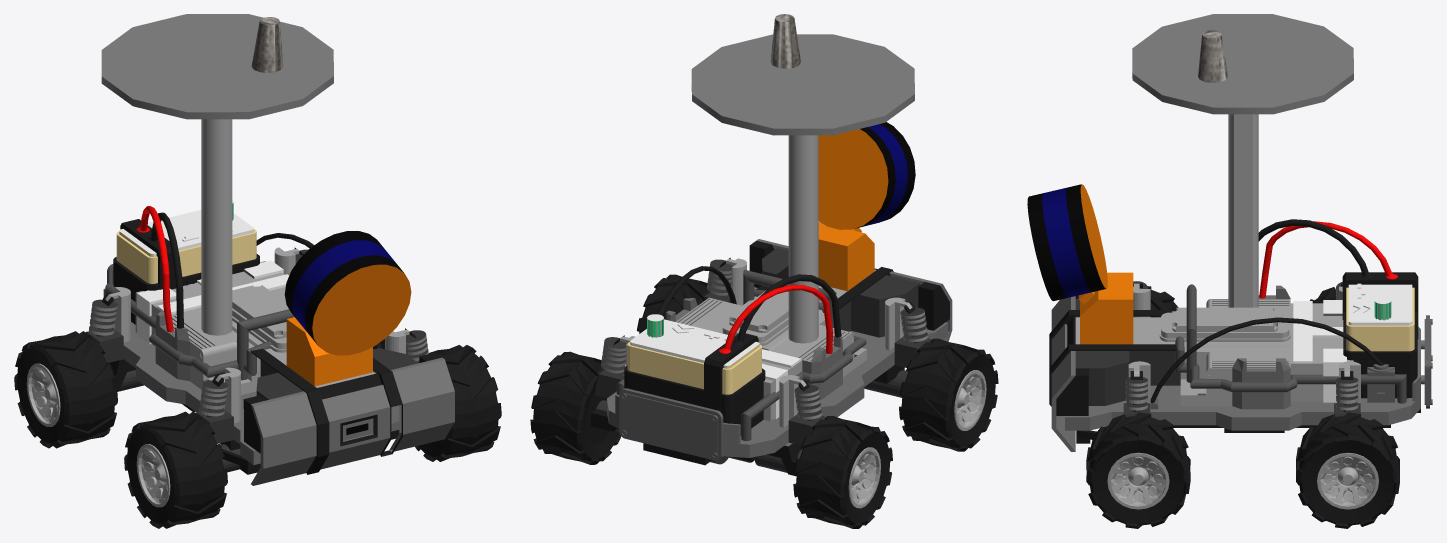
Rendered from simpModel.glb.
3 views of the same model, side by side, from view 1: azimuth 30°, elevation 25°; view 2: azimuth 150°, elevation 25°; view 3: azimuth 270°, elevation 25° (orthographic). The views are drawn at different scales.
Parts seen in each view (by area): view 1: root; view 2: root; view 3: root.
Boxes of the visible parts, x1,y1,x2,y2 form: root: (14, 14, 501, 528); root: (530, 14, 998, 528); root: (1027, 14, 1432, 528).
Size of the model in its own units: 0.4763 by 0.6095 by 0.5355.
18 materials, 1 textured.
